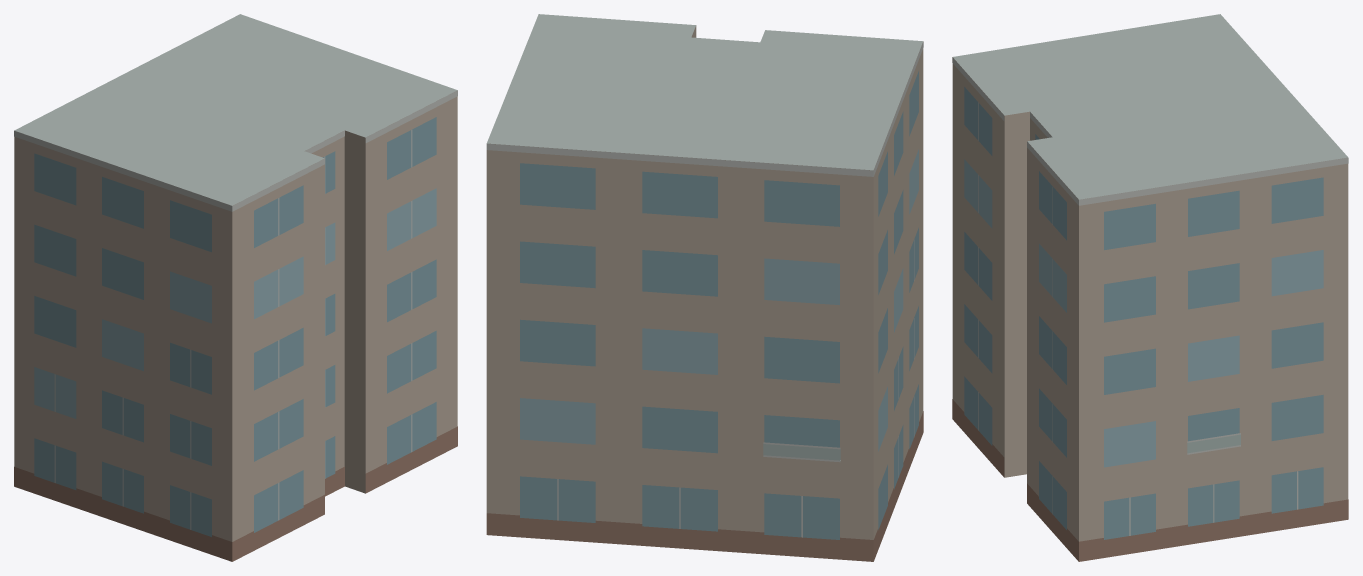
File: survey-upis-32524264.glb
3 renders of one model, left to right at view 1: azimuth 30°, elevation 25°; view 2: azimuth 150°, elevation 25°; view 3: azimuth 270°, elevation 25°, orthographic. The views are drawn at different scales.
Visible parts, largest first — view 1: survey-upis-32524264.tmp; view 2: survey-upis-32524264.tmp; view 3: survey-upis-32524264.tmp.
Boxes of the visible parts, box(x1,y1,x2,y2) form: survey-upis-32524264.tmp: box(14, 14, 457, 561); survey-upis-32524264.tmp: box(486, 14, 923, 561); survey-upis-32524264.tmp: box(952, 14, 1348, 561).
Bounding box in the file's own units: 15.96 × 14.5 × 14.38.
